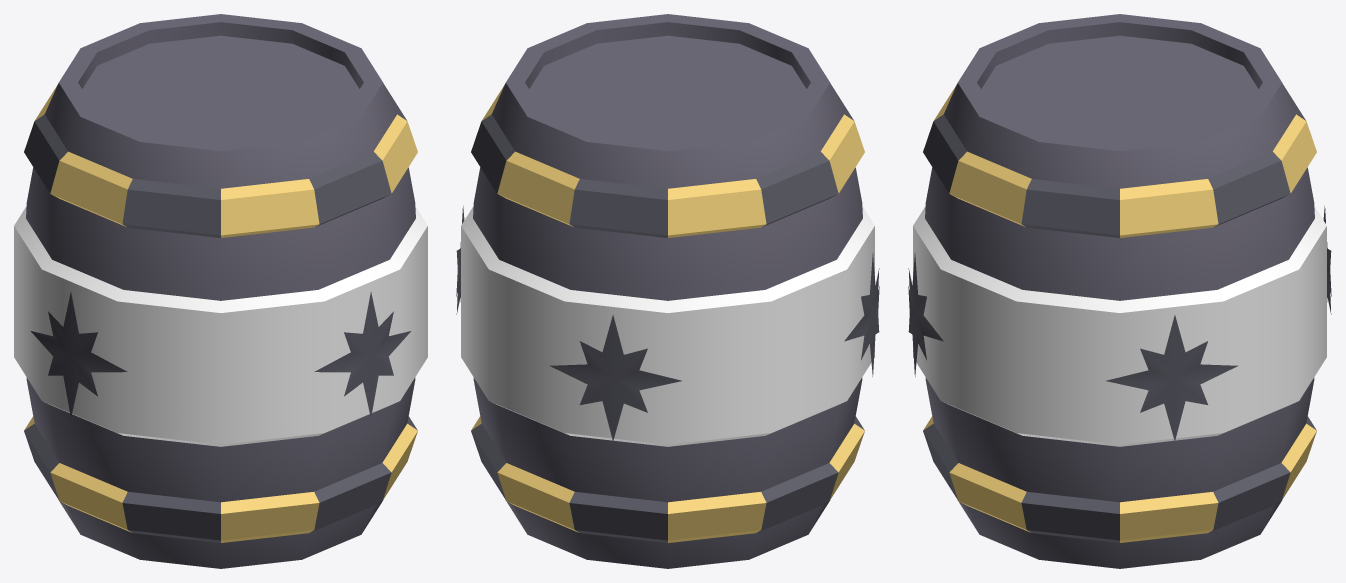
File: Barrel.fbx
The picture shows the model from 3 angles, left to right: view 1: azimuth 30°, elevation 25°; view 2: azimuth 150°, elevation 25°; view 3: azimuth 270°, elevation 25°; orthographic projection.
Parts seen in each view (by area): view 1: Barrel_Body, Barrel_Band, Barrel_Gold, Barrel_Stripe, Barrel_Emblem; view 2: Barrel_Body, Barrel_Band, Barrel_Gold, Barrel_Stripe, Barrel_Emblem; view 3: Barrel_Body, Barrel_Band, Barrel_Gold, Barrel_Stripe, Barrel_Emblem.
Boxes of the visible parts, left/top/right/bottom form: Barrel_Body: left=26, top=14, right=415, bottom=568; Barrel_Band: left=14, top=206, right=427, bottom=446; Barrel_Gold: left=24, top=85, right=417, bottom=542; Barrel_Stripe: left=24, top=85, right=417, bottom=542; Barrel_Emblem: left=31, top=292, right=410, bottom=417; Barrel_Body: left=473, top=14, right=862, bottom=568; Barrel_Band: left=461, top=206, right=874, bottom=446; Barrel_Gold: left=471, top=85, right=864, bottom=542; Barrel_Stripe: left=471, top=85, right=864, bottom=542; Barrel_Emblem: left=456, top=206, right=879, bottom=441; Barrel_Body: left=925, top=14, right=1314, bottom=568; Barrel_Band: left=913, top=206, right=1326, bottom=446; Barrel_Gold: left=923, top=85, right=1316, bottom=542; Barrel_Stripe: left=923, top=85, right=1316, bottom=542; Barrel_Emblem: left=908, top=206, right=1331, bottom=441.
Size of the model in its own units: 0.9916 by 1.08 by 0.9916.
